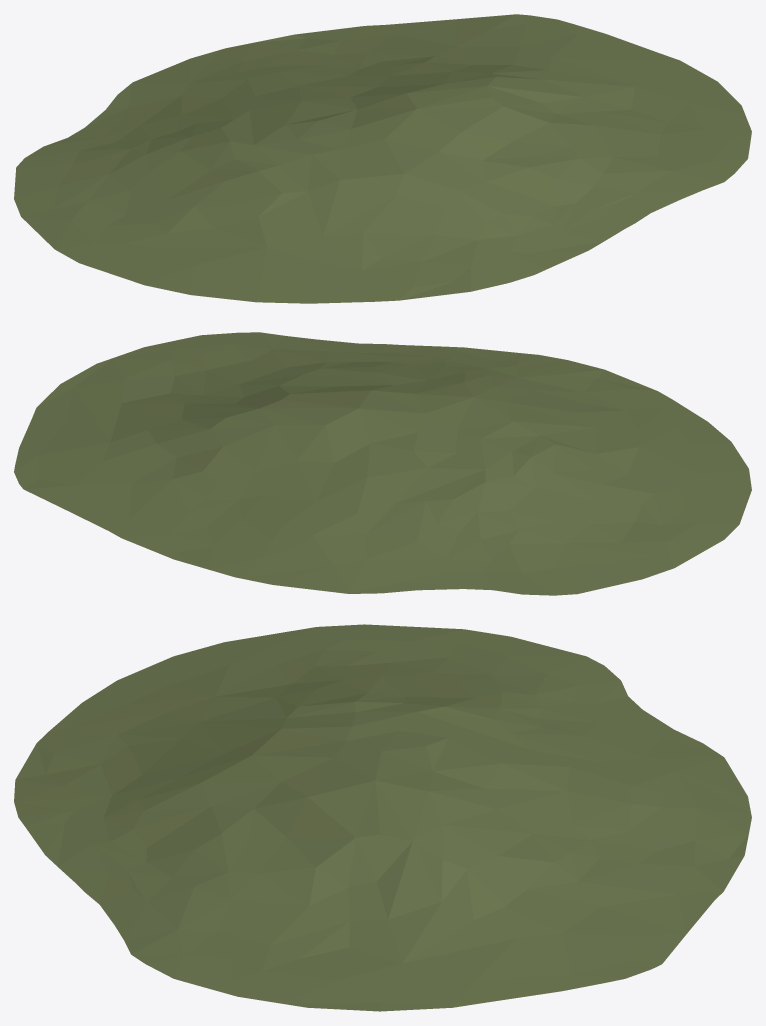
The model's file is SM_Envr_Nature_Terrain_Ground_06.fbx.
The picture shows the model from 3 angles, top to bottom: view 1: azimuth 30°, elevation 25°; view 2: azimuth 150°, elevation 25°; view 3: azimuth 270°, elevation 25°; orthographic projection. The views are drawn at different scales.
Visible parts, largest first — view 1: SM_Envr_Nature_Terrain_Ground_06; view 2: SM_Envr_Nature_Terrain_Ground_06; view 3: SM_Envr_Nature_Terrain_Ground_06.
Boxes of the visible parts, bbox=[...] form: SM_Envr_Nature_Terrain_Ground_06: bbox=[14, 14, 751, 303]; SM_Envr_Nature_Terrain_Ground_06: bbox=[14, 332, 751, 595]; SM_Envr_Nature_Terrain_Ground_06: bbox=[14, 624, 751, 1011].
Size of the model in its own units: 1009 by 69.03 by 813.
